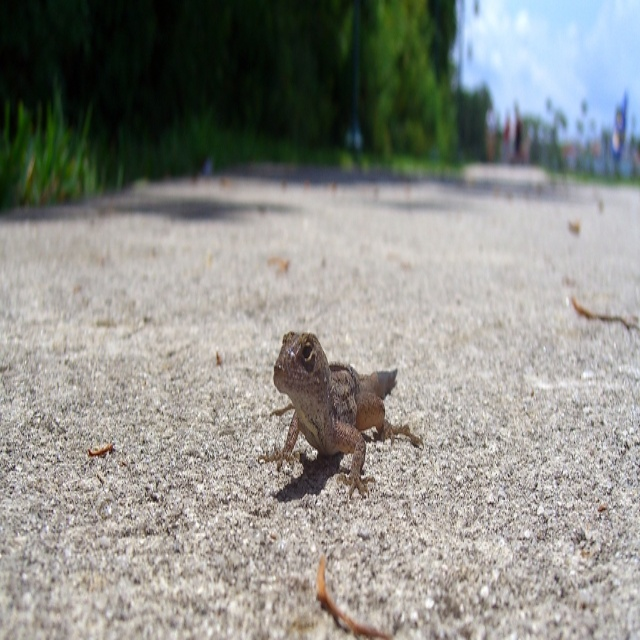Lizard: (289, 334, 414, 521)
